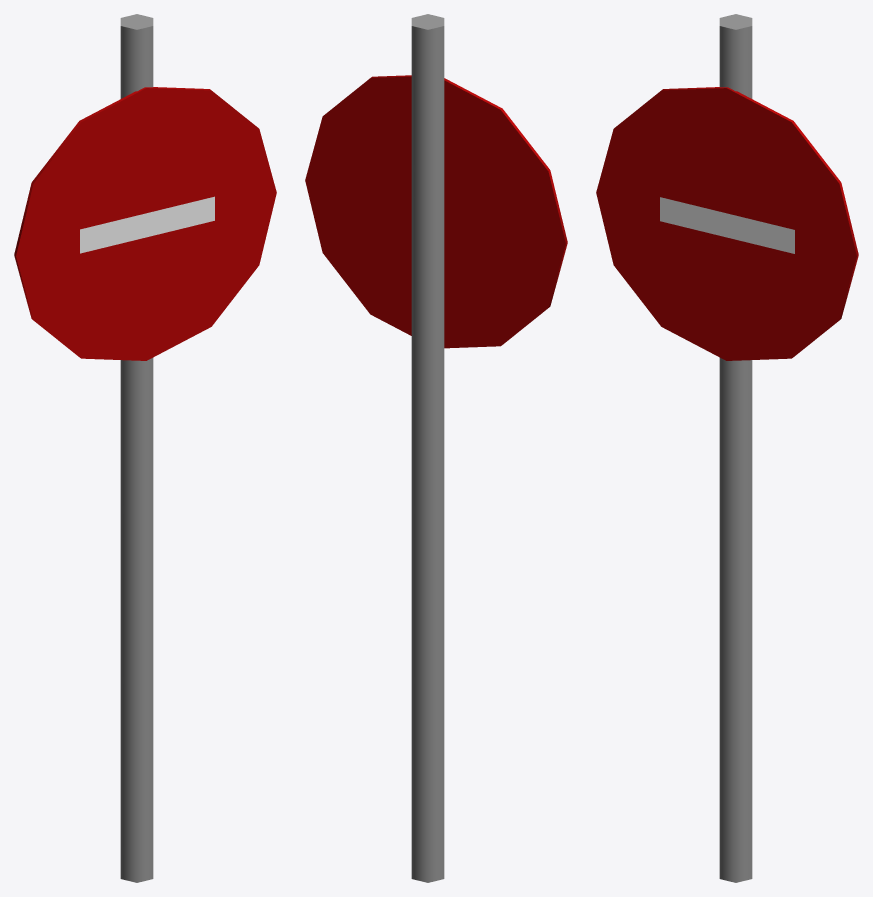
File: No entry road sign.FBX
3 views of the same model, side by side, from view 1: azimuth 30°, elevation 25°; view 2: azimuth 150°, elevation 25°; view 3: azimuth 330°, elevation 25° (orthographic).
Visible parts, largest first — view 1: no entry sign; view 2: no entry sign; view 3: no entry sign.
Part boxes in pixels (box(x1,y1,x2,y2)): no entry sign: box(14, 14, 276, 882); no entry sign: box(305, 14, 567, 882); no entry sign: box(596, 14, 858, 882).
Size of the model in its own units: 31.5 by 98.43 by 3.67.
